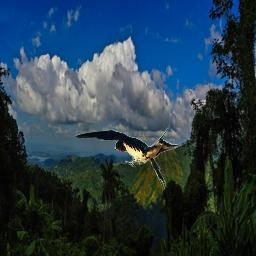Swallow: (73, 124, 200, 190)
